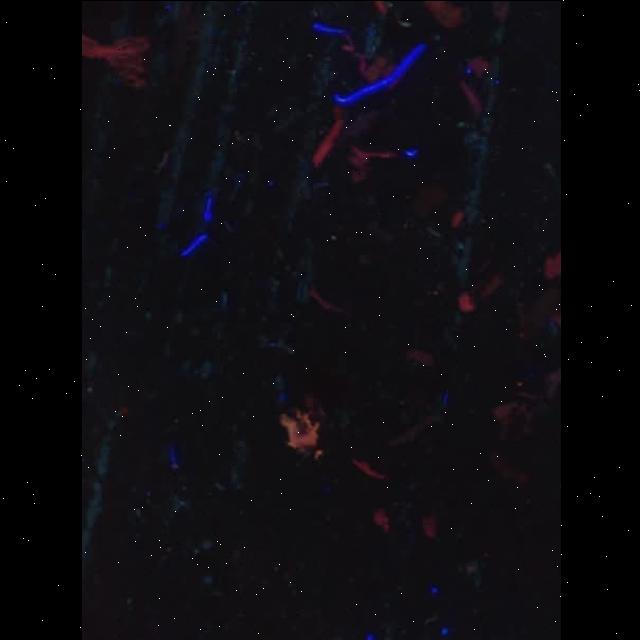Fragment: (371, 508, 387, 532), (456, 291, 474, 312)
